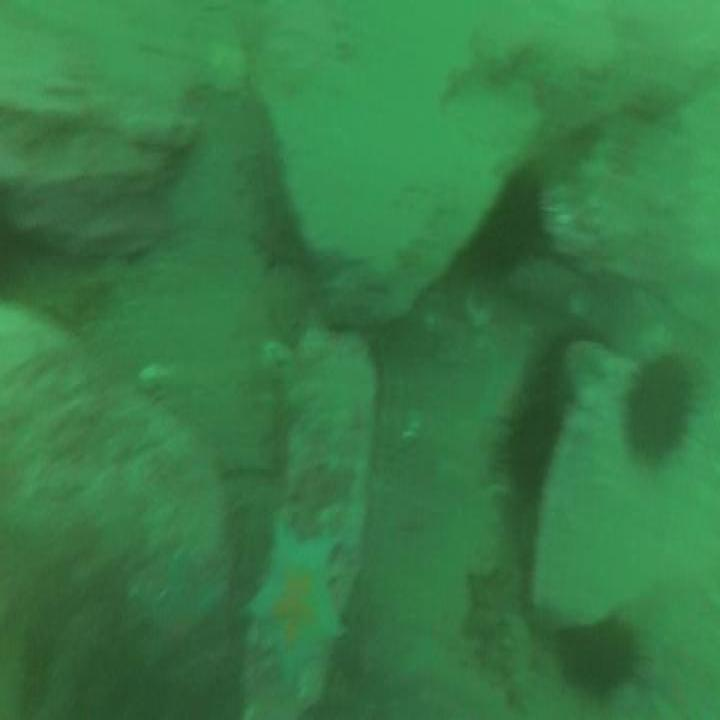echinus: (627, 354, 690, 457), (562, 620, 636, 698), (503, 404, 550, 498), (492, 182, 543, 260)
holothurian: (502, 612, 534, 695)
starfish: (247, 523, 343, 681), (463, 565, 516, 651)
